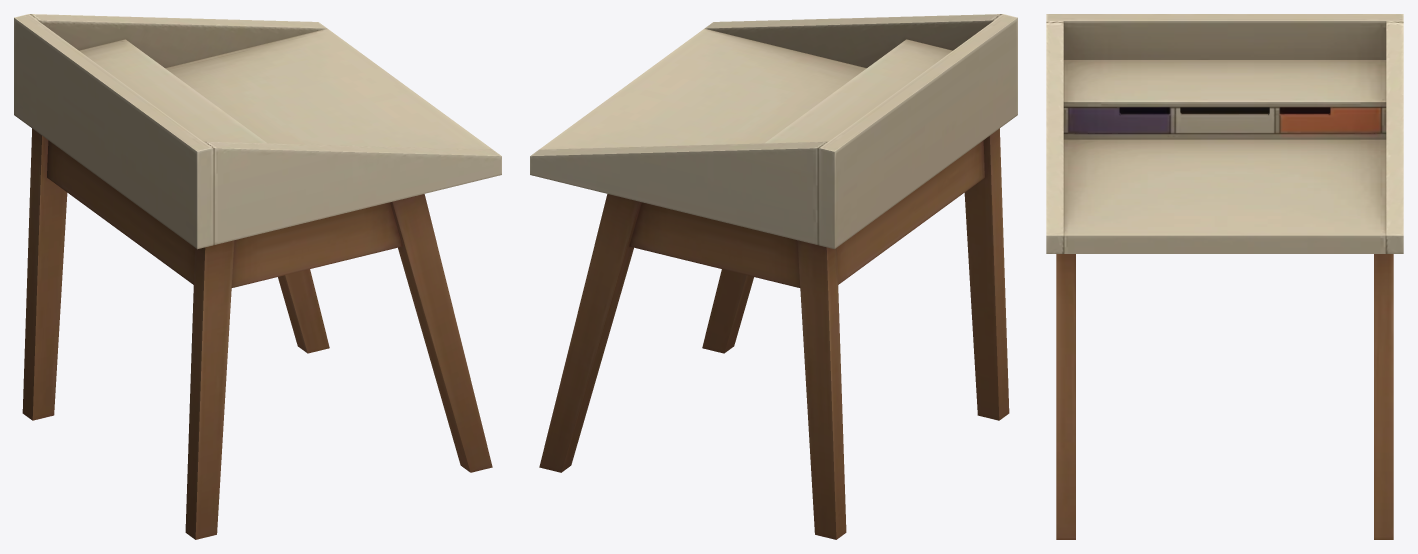
File: tiny_tiny_desk_for_tiny_living.glb
The picture shows the model from 3 angles, left to right: view 1: azimuth 30°, elevation 25°; view 2: azimuth 150°, elevation 25°; view 3: azimuth 270°, elevation 25°; orthographic projection. The views are drawn at different scales.
Visible parts, largest first — view 1: TinyLiving_TinyDeskForTinyLiving_37; view 2: TinyLiving_TinyDeskForTinyLiving_37; view 3: TinyLiving_TinyDeskForTinyLiving_37.
Boxes of the visible parts, <box> form: TinyLiving_TinyDeskForTinyLiving_37: <box>14,14,501,539</box>; TinyLiving_TinyDeskForTinyLiving_37: <box>530,14,1017,539</box>; TinyLiving_TinyDeskForTinyLiving_37: <box>1046,14,1403,539</box>.
Bounding box in the file's own units: 1.18 × 1.46 × 1.23.
1 material, 1 textured.
